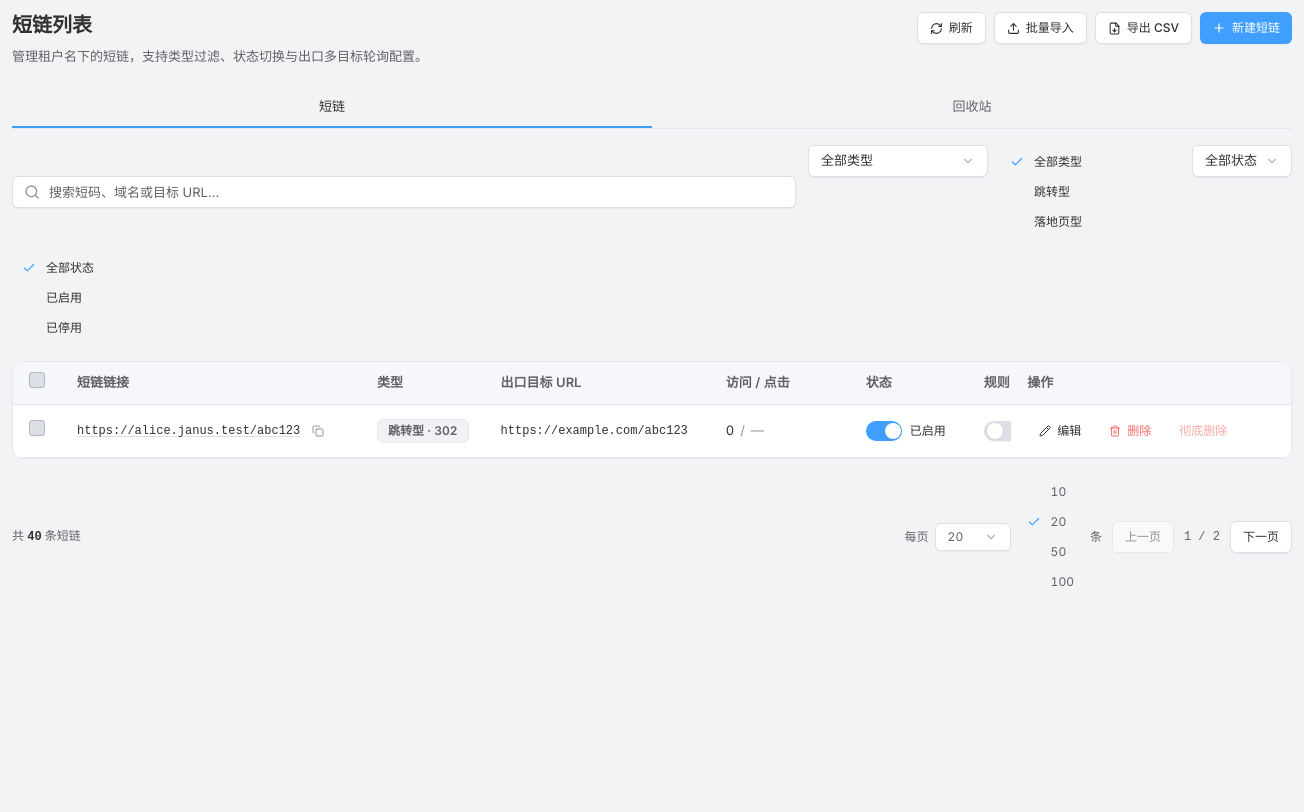
Test: LinksView 筛选下推 › Given 服务端按筛选返回 total, Then 底栏与分页都用筛选后的结果集
In the field named "搜索短链": (404, 192) [12, 176, 796, 208], type "promo"
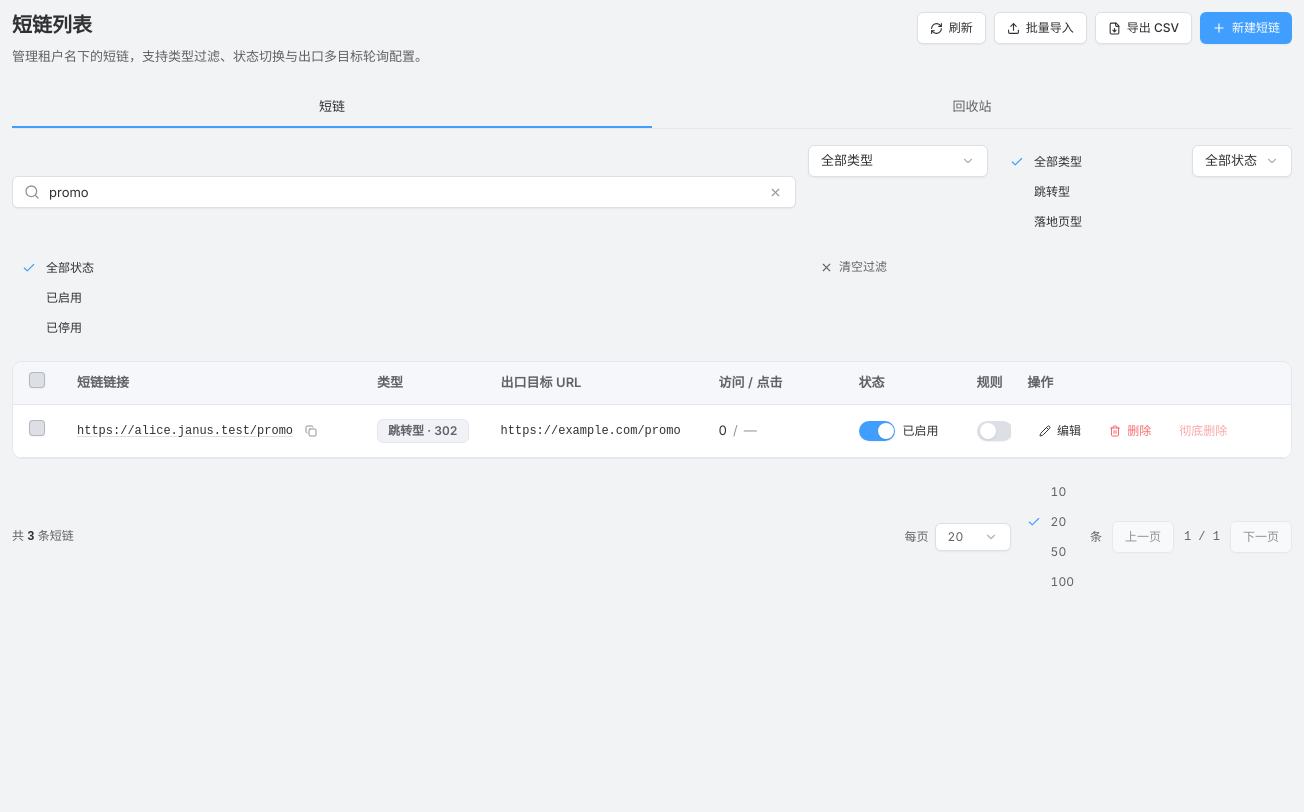
Expected: the text "共 3 条短链" is shown, [12, 527, 74, 546]
Expected: the text "1 / 1" is shown, [1184, 530, 1220, 544]
